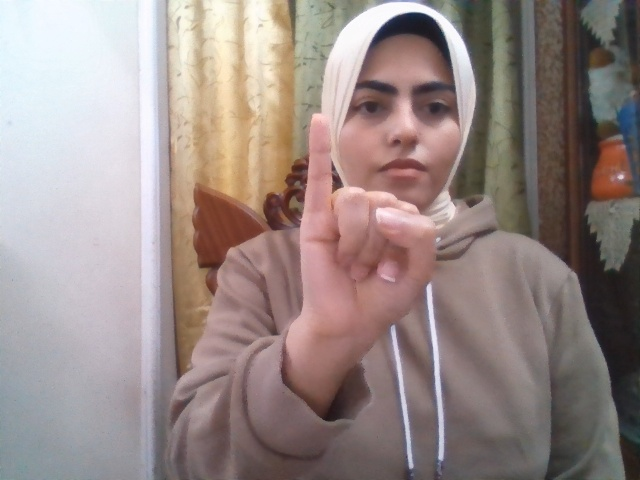I: (299, 114, 435, 343)
